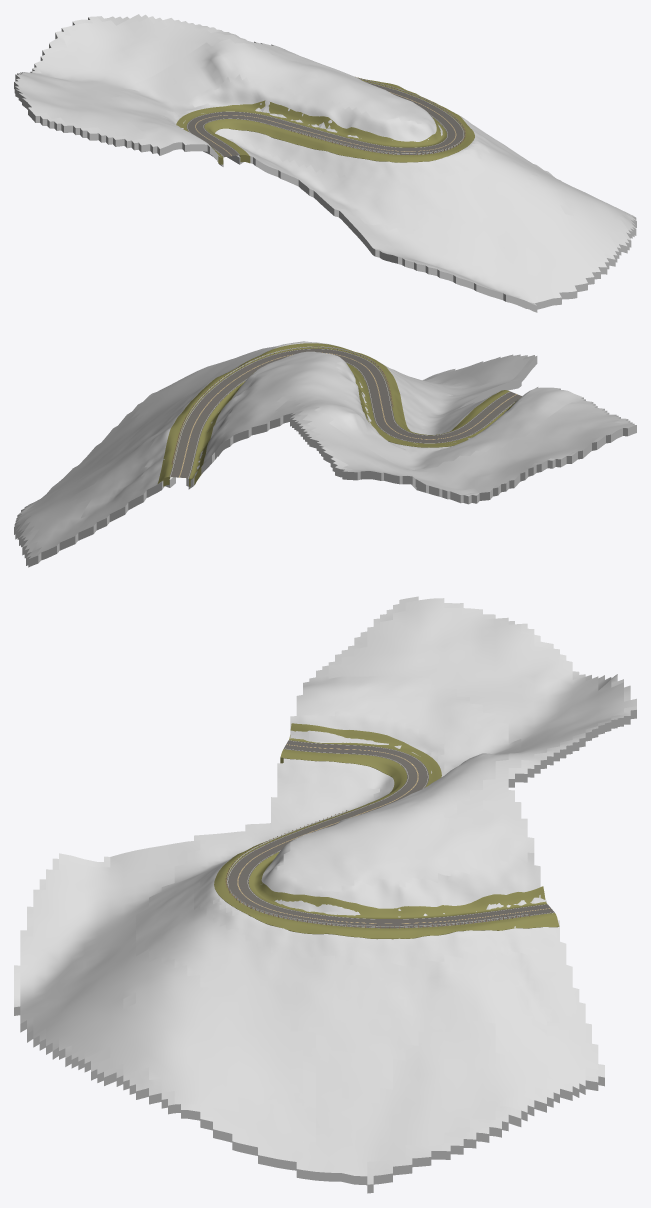
The model's file is conz_178.glb.
The picture shows the model from 3 angles, top to bottom: view 1: azimuth 30°, elevation 25°; view 2: azimuth 150°, elevation 25°; view 3: azimuth 270°, elevation 25°; orthographic projection. The views are drawn at different scales.
Visible parts, largest first — view 1: terrain178, road178, verge178L, verge178R; view 2: terrain178, road178, verge178L, verge178R, paint_white178, paint_yellow178, beam178_517310; view 3: terrain178, road178, verge178L, verge178R.
Boxes of the visible parts, x1=… form: terrain178: x1=14, y1=14, x2=636, y2=312; road178: x1=186, y1=81, x2=464, y2=157; verge178L: x1=204, y1=77, x2=474, y2=163; verge178R: x1=176, y1=100, x2=446, y2=164; terrain178: x1=14, y1=341, x2=636, y2=567; road178: x1=169, y1=348, x2=521, y2=478; verge178L: x1=157, y1=343, x2=509, y2=486; verge178R: x1=189, y1=363, x2=519, y2=486; paint_white178: x1=170, y1=349, x2=514, y2=478; paint_yellow178: x1=179, y1=352, x2=516, y2=477; beam178_517310: x1=173, y1=346, x2=392, y2=462; terrain178: x1=14, y1=596, x2=636, y2=1193; road178: x1=227, y1=740, x2=554, y2=928; verge178L: x1=214, y1=749, x2=559, y2=939; verge178R: x1=248, y1=723, x2=546, y2=918.
Size of the model in its own units: 240 by 93.59 by 194.
